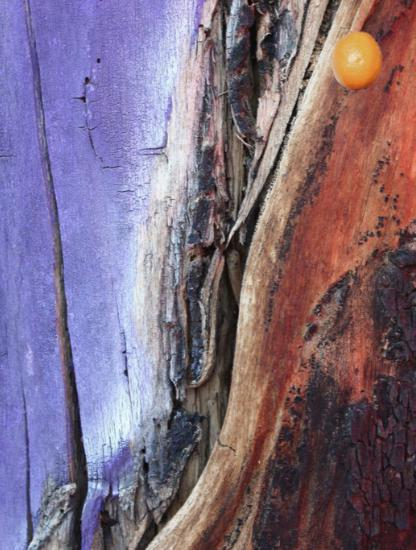Lemon: (327, 29, 388, 90)
